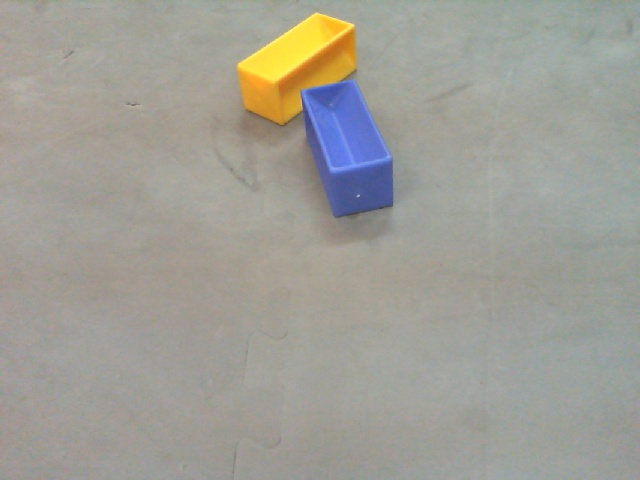BlueSample: (299, 80, 401, 220)
YellowSample: (236, 12, 355, 130)
